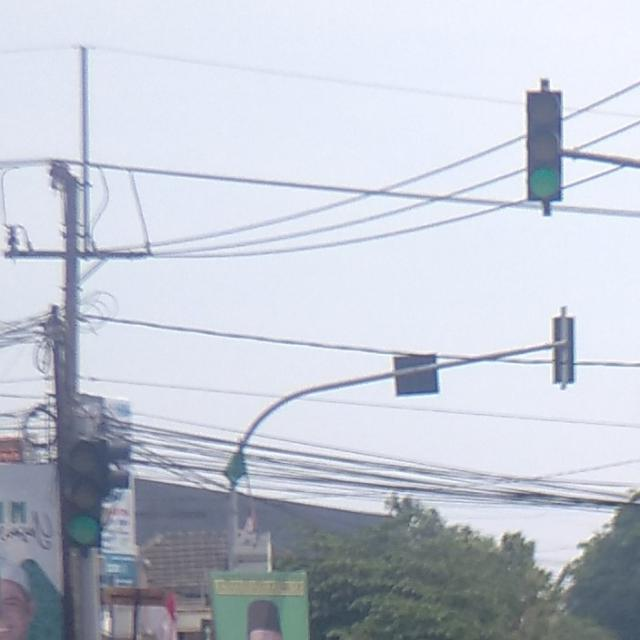green_light: (526, 88, 559, 200)
